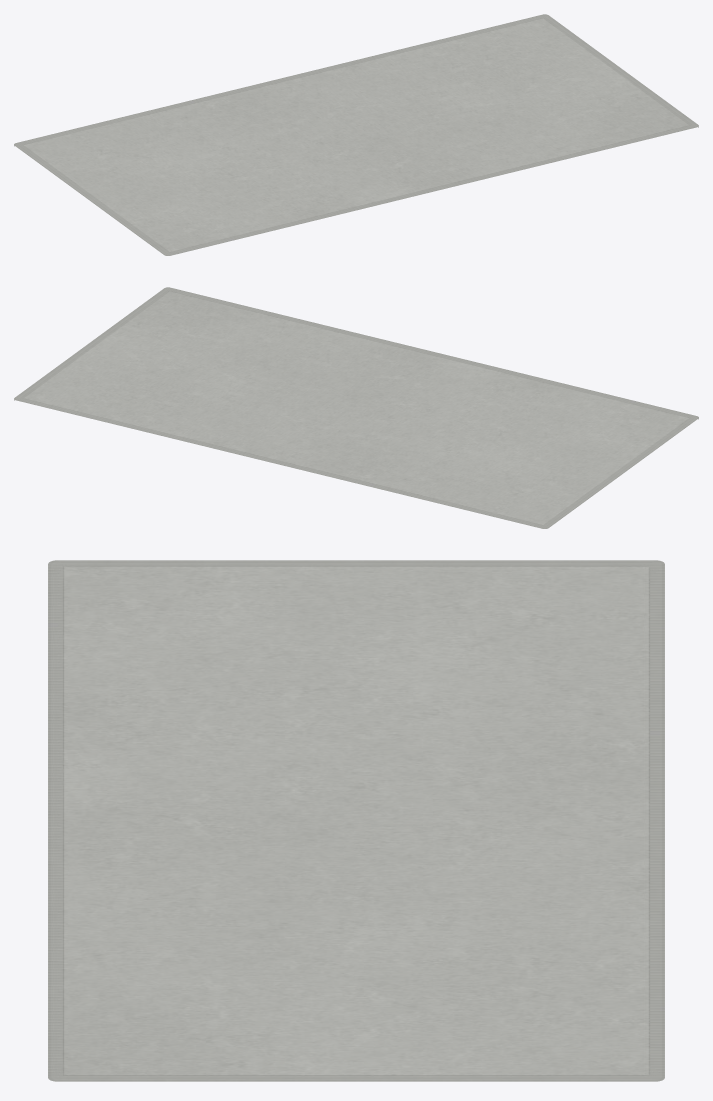
The model's file is gray_module_r90.glb.
3 views of the same model, one above another, from view 1: azimuth 30°, elevation 25°; view 2: azimuth 150°, elevation 25°; view 3: azimuth 270°, elevation 25° (orthographic). The views are drawn at different scales.
Visible parts, largest first — view 1: reliv_gray_module_r90; view 2: reliv_gray_module_r90; view 3: reliv_gray_module_r90.
Part boxes in pixels (x1,y1,x2,y2): reliv_gray_module_r90: (14,14,698,255); reliv_gray_module_r90: (14,287,698,528); reliv_gray_module_r90: (48,560,664,1081).
Bounding box in the file's own units: 2 × 0.009 × 1.
Materials: 2 (1 with a texture image).
